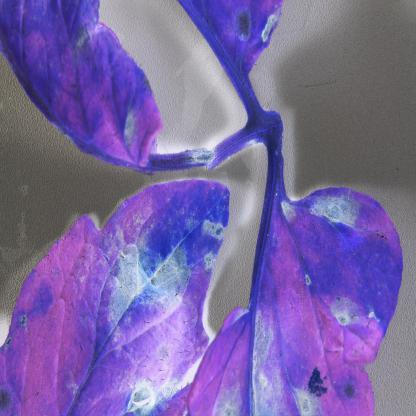Tomato Early blight leaf: (7, 176, 240, 416), (250, 175, 404, 416)
